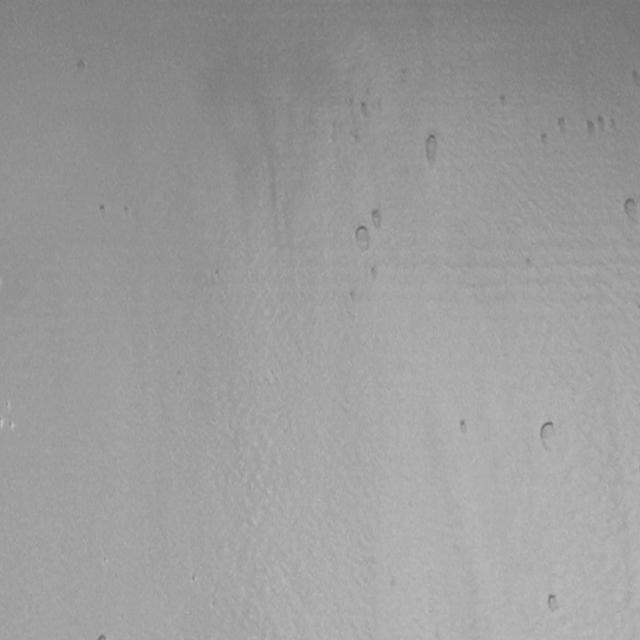pin holes: (536, 418, 562, 454), (419, 132, 442, 170), (620, 194, 639, 226), (354, 224, 374, 252), (543, 590, 564, 616), (555, 116, 574, 141), (369, 206, 388, 230), (357, 97, 374, 119), (584, 118, 600, 141), (457, 416, 474, 437), (594, 114, 610, 135), (368, 263, 384, 283), (627, 67, 640, 90), (607, 116, 621, 137), (74, 58, 90, 76), (539, 130, 553, 148), (346, 288, 360, 306), (97, 201, 110, 220), (498, 92, 512, 109), (5, 417, 18, 433), (123, 202, 134, 218), (95, 630, 112, 639)
